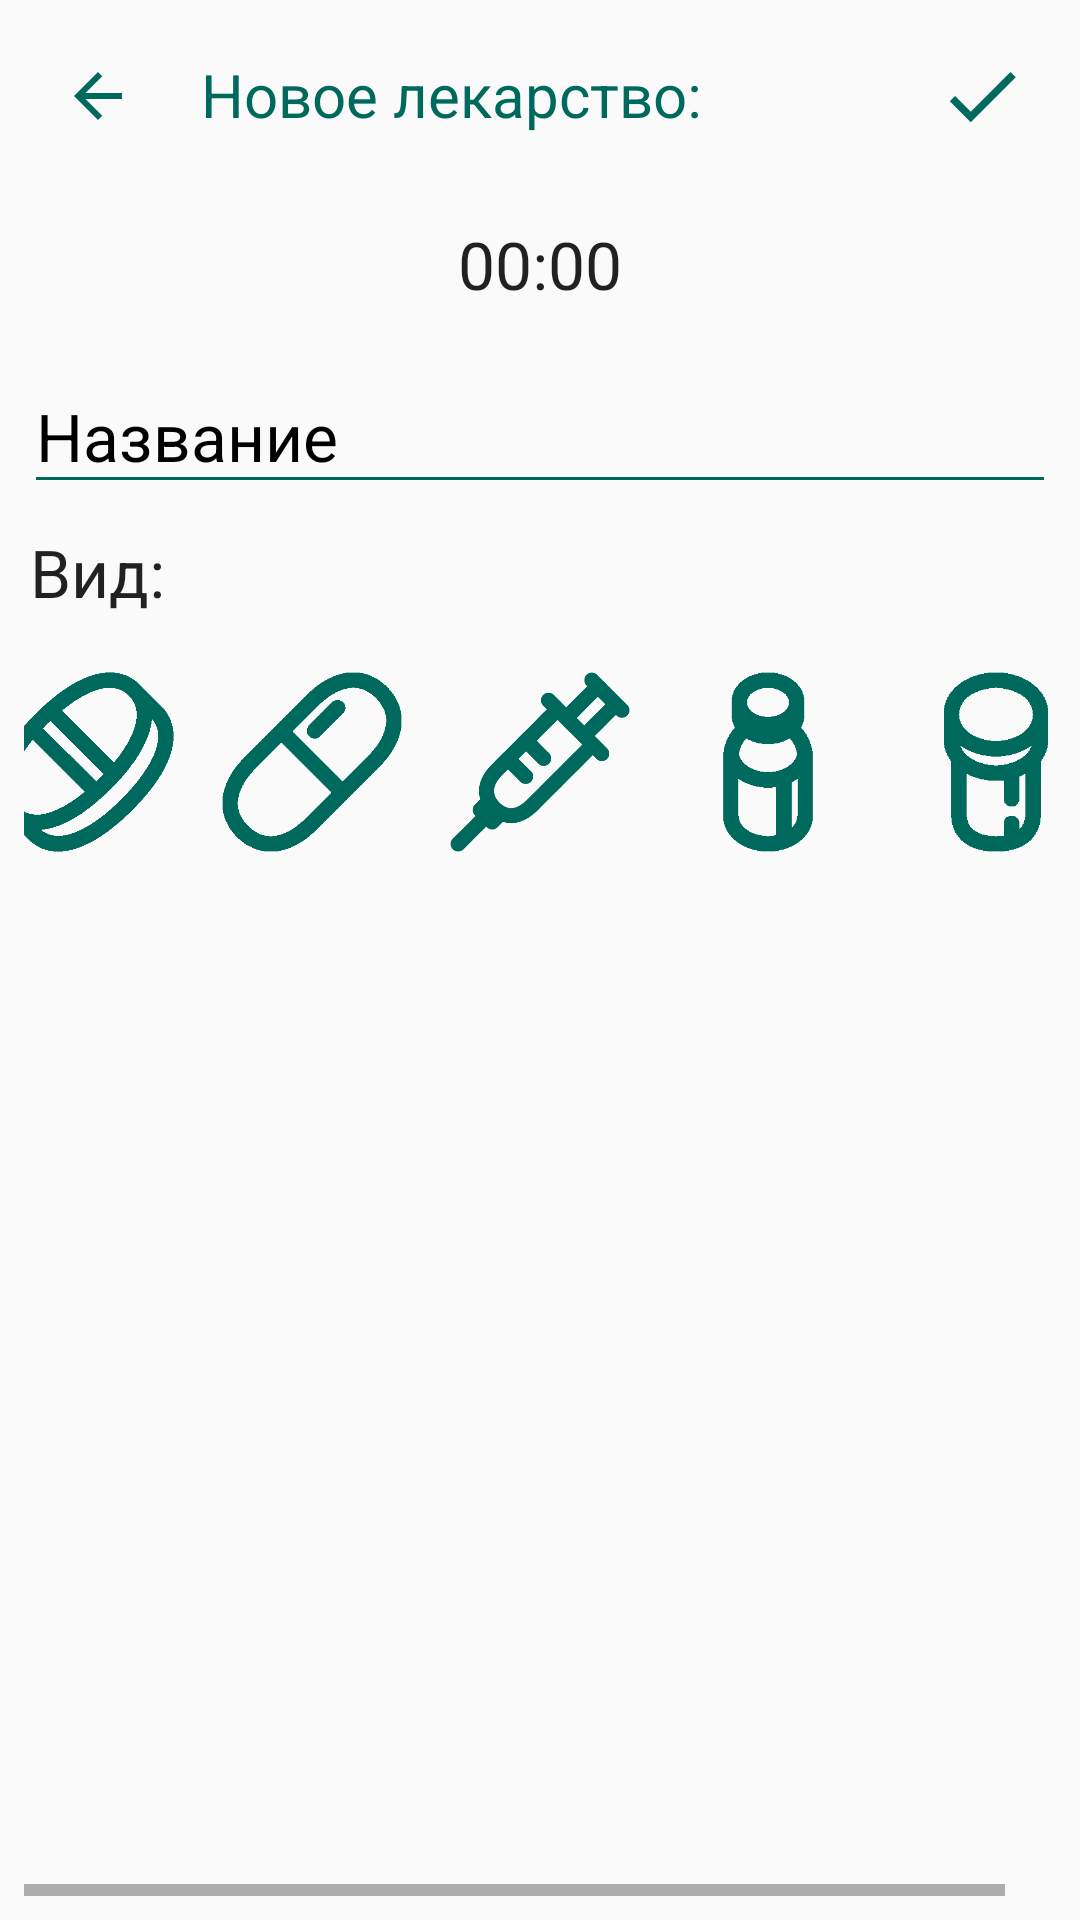

Icon bounding boxes for this 1080x1920 phone screenshot, format (x1, y1, x2, y2):
arrow back: (74, 72, 122, 120)
check: (950, 72, 1016, 122)
syringe: (450, 672, 630, 852)
